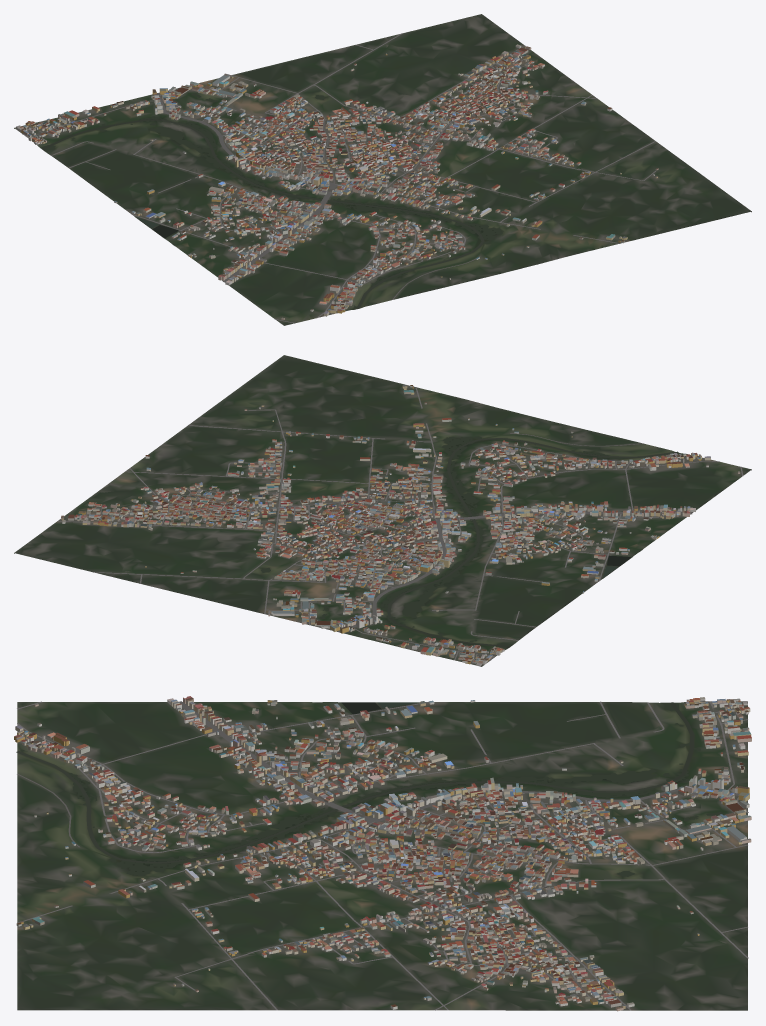
The picture shows the model from 3 angles, top to bottom: view 1: azimuth 30°, elevation 25°; view 2: azimuth 150°, elevation 25°; view 3: azimuth 270°, elevation 25°; orthographic projection. The views are drawn at different scales.
Visible parts, largest first — view 1: ground, buildings, roads, water; view 2: ground, buildings, roads, water; view 3: ground, buildings, roads, water.
Part boxes in pixels (box(x1,y1,x2,y2)): ground: box(14, 14, 751, 325); buildings: box(16, 44, 658, 319); roads: box(22, 33, 656, 323); water: box(41, 93, 503, 308); ground: box(14, 355, 751, 666); buildings: box(61, 384, 740, 666); roads: box(57, 387, 743, 663); water: box(261, 436, 678, 647); ground: box(17, 701, 747, 1010); buildings: box(14, 696, 751, 1011); roads: box(17, 701, 748, 1010); water: box(16, 702, 722, 876).
Bounding box in the file's own units: 1411 × 27.42 × 1416.
